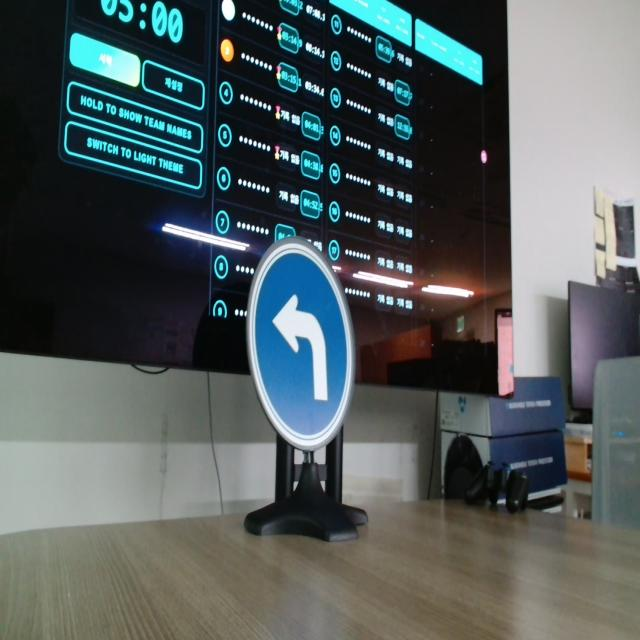left_direction: (244, 236, 362, 450)
